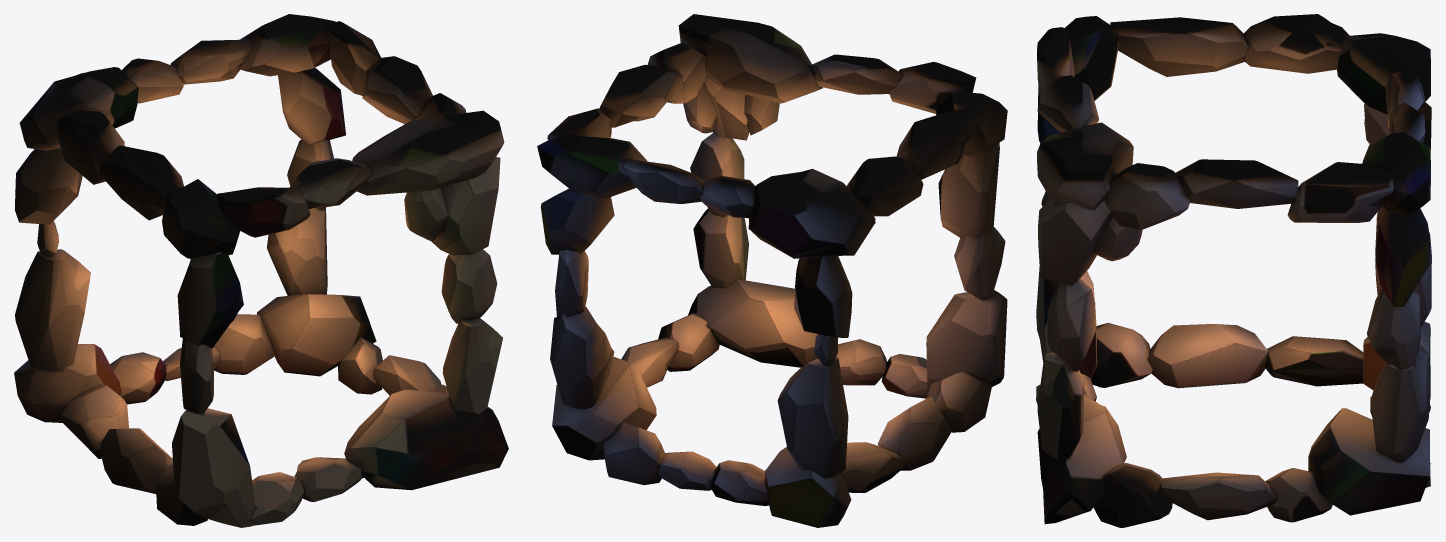
Rendered from Core_Cube.glb.
3 views of the same model, side by side, from view 1: azimuth 30°, elevation 25°; view 2: azimuth 150°, elevation 25°; view 3: azimuth 270°, elevation 25° (orthographic). The views are drawn at different scales.
Visible parts, largest first — view 1: LavaCube; view 2: LavaCube; view 3: LavaCube.
Boxes of the visible parts, box(x1,y1,x2,y2) form: LavaCube: box(14, 14, 508, 527); LavaCube: box(537, 14, 1007, 527); LavaCube: box(1036, 14, 1431, 527).
Size of the model in its own units: 0.5874 by 0.5761 by 0.5773.
1 material, 1 textured.
